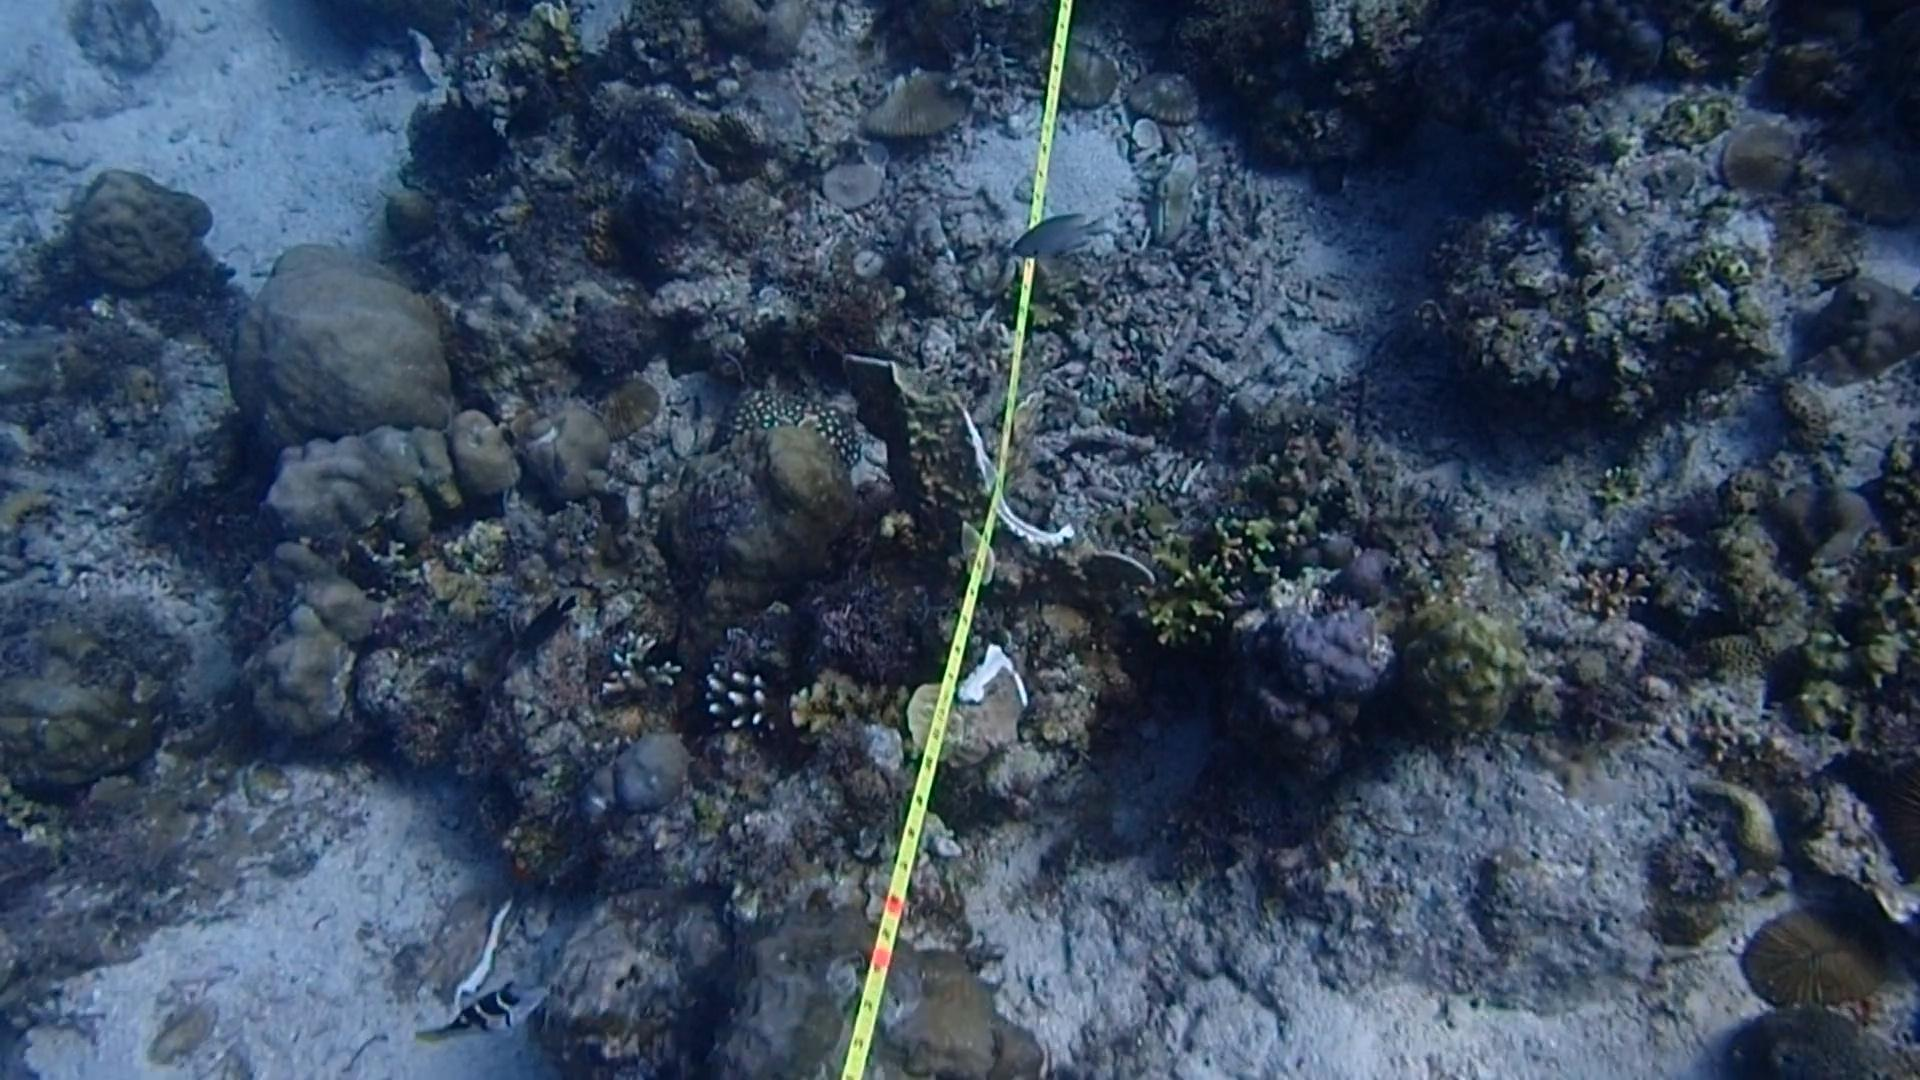Striped Fish: (418, 978, 531, 1067)
